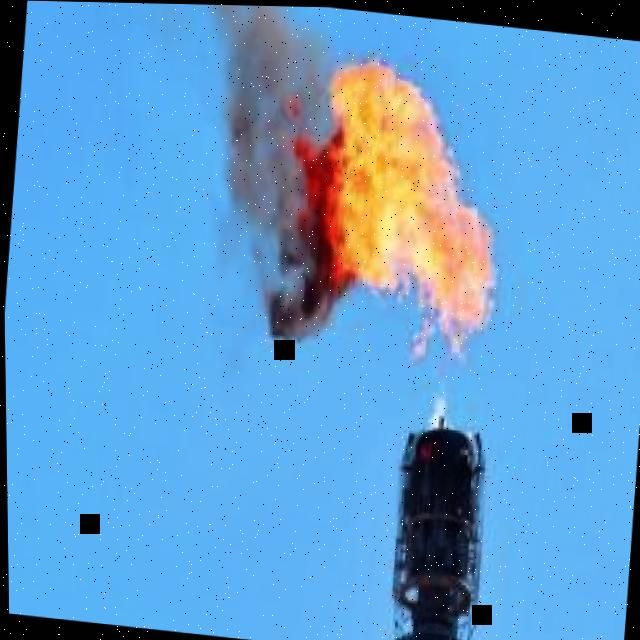fire: (321, 51, 496, 407)
smoke: (206, 4, 359, 340)
